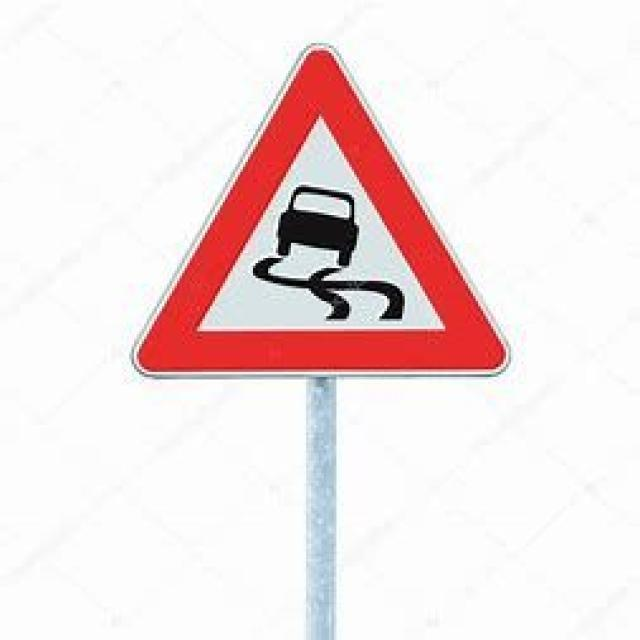slippery road: (134, 40, 508, 374)
